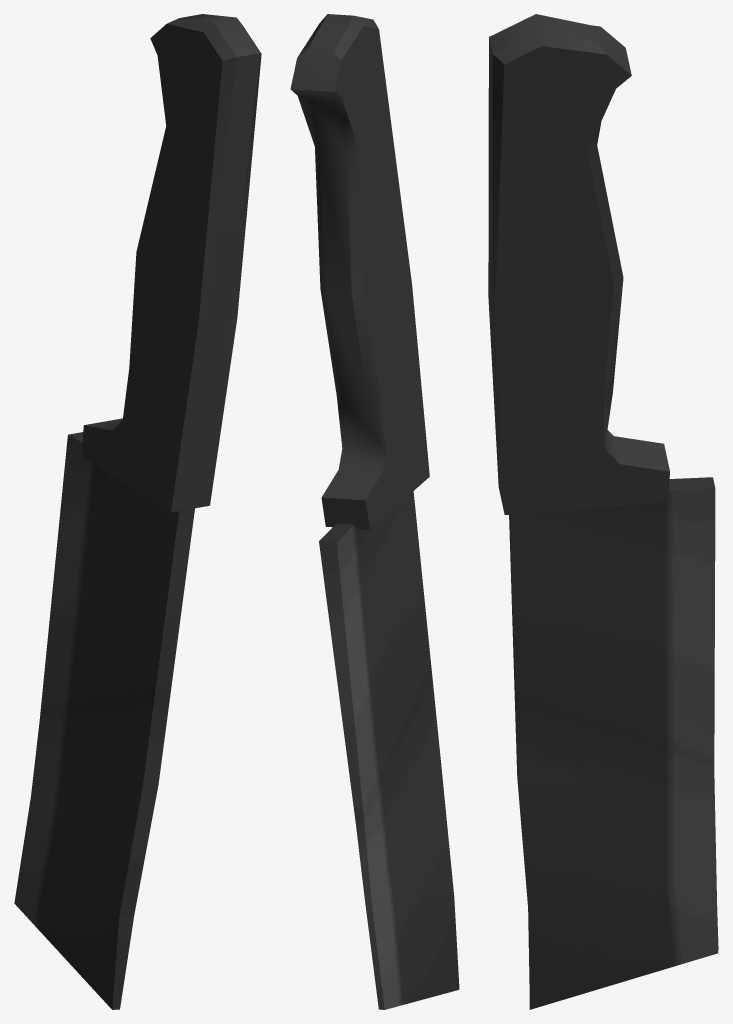
File: H_PChefKnife02.fbx
The picture shows the model from 3 angles, left to right: view 1: azimuth 30°, elevation 25°; view 2: azimuth 150°, elevation 25°; view 3: azimuth 270°, elevation 25°; orthographic projection. The views are drawn at different scales.
Parts seen in each view (by area): view 1: Pknife2; view 2: Pknife2; view 3: Pknife2.
Part boxes in pixels (x1,y1,x2,y2): Pknife2: [14, 14, 261, 1009]; Pknife2: [290, 14, 459, 1009]; Pknife2: [488, 14, 718, 1009].
Size of the model in its own units: 9.82 by 60.67 by 12.09.
